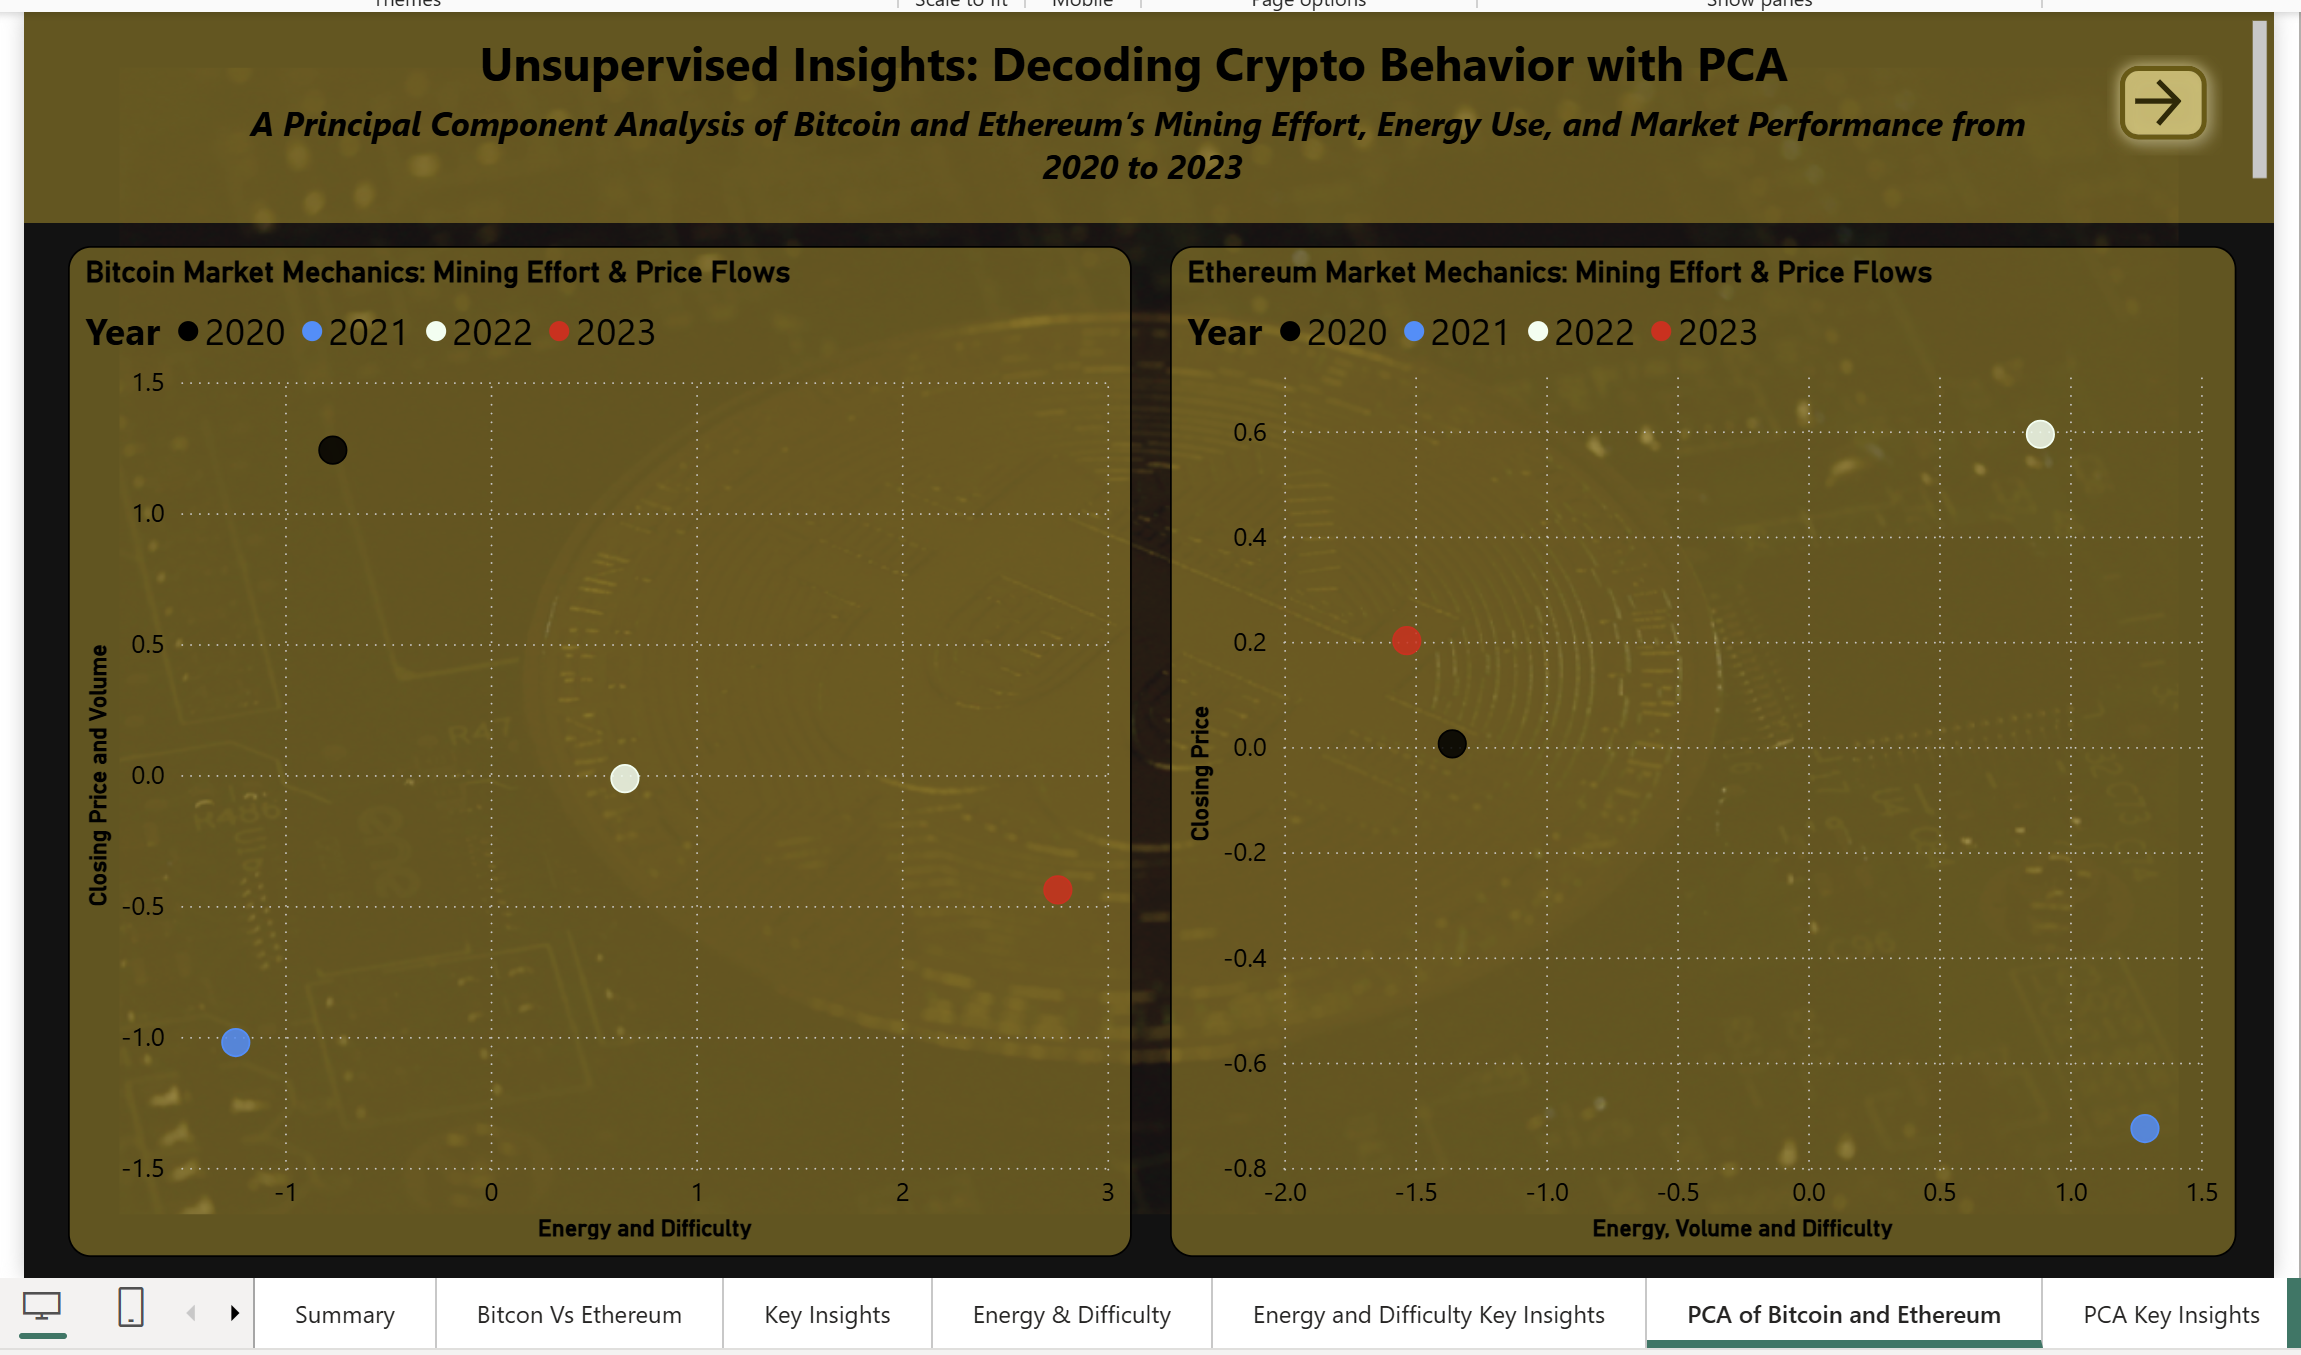

What the dashboard file says about the page in this screenshot:
{"tool":"powerbi","page":{"name":"PCA of Bitcoin and Ethereum","canvas":[1280,720],"ordinal":5},"visuals":[{"type":"scatterChart","title":"Bitcoin Market Mechanics: Mining Effort & Price Flows","fields":{"X":["Avg(pca_output_Bitcoin_combo8.PC1)"],"Y":["Avg(pca_output_Bitcoin_combo8.PC2)"],"Series":["pca_output_Bitcoin_combo8.Date.Variation.Date Hierarchy.Year"]},"box":[25,132.5,605.1,575.1],"z":6000},{"type":"scatterChart","title":"Ethereum Market Mechanics: Mining Effort & Price Flows","fields":{"X":["Avg(pca_output_Ethereum_combo8.PC1)"],"Series":["pca_output_Ethereum_combo8.Date.Variation.Date Hierarchy.Year"],"Y":["Avg(pca_output_Ethereum_combo8.PC2)"]},"box":[651.4,132.5,606.4,575.1],"z":7000},{"type":"textbox","box":[0,0,1280.3,120],"z":8000},{"type":"actionButton","box":[1183,22,67.5,60],"z":9000}]}

Visuals, with their boxes on the page's 1280x720 design canvas (x1, y1, x2, y2). These are canvas units, not pixel positions in the 2301x1355 screenshot, which may show the page scaled, cropped or inside an application window:
"Bitcoin Market Mechanics: Mining Effort & Price Flows" scatterChart: (x1=25, y1=132, x2=630, y2=708)
"Ethereum Market Mechanics: Mining Effort & Price Flows" scatterChart: (x1=651, y1=132, x2=1258, y2=708)
textbox: (x1=0, y1=0, x2=1280, y2=120)
actionButton: (x1=1183, y1=22, x2=1250, y2=82)
